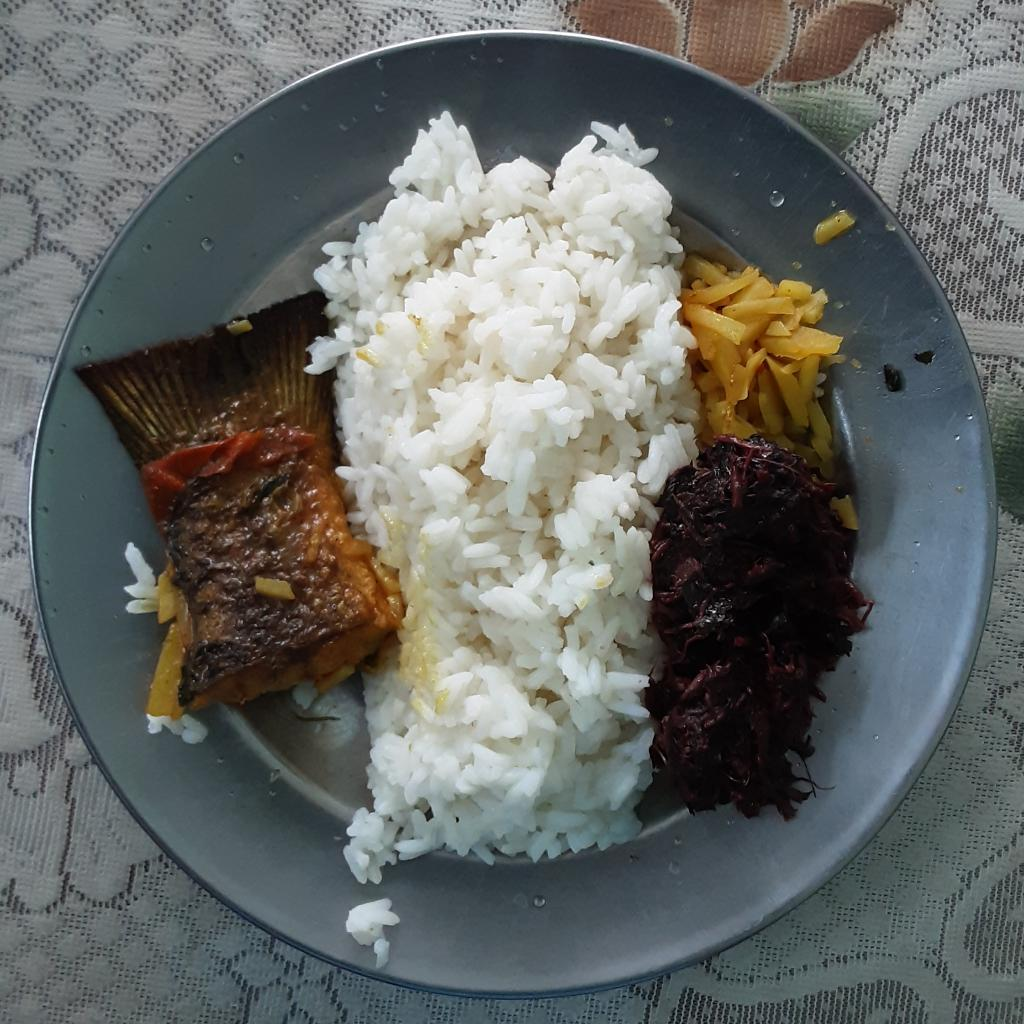fish: (71, 288, 415, 712)
lal-shak: (644, 440, 866, 828)
potato: (683, 250, 843, 462), (149, 567, 198, 714)
rice: (301, 113, 715, 891), (345, 896, 399, 976), (145, 710, 205, 751)
